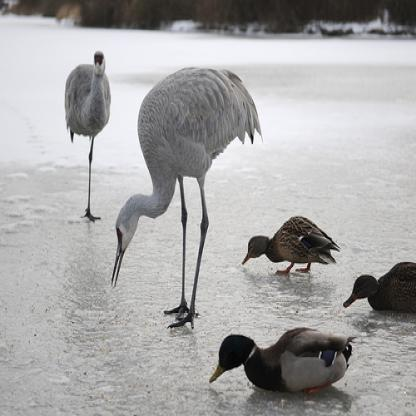bird: (112, 64, 264, 332), (210, 322, 355, 396), (65, 50, 111, 223), (242, 216, 340, 280), (342, 262, 415, 313)
